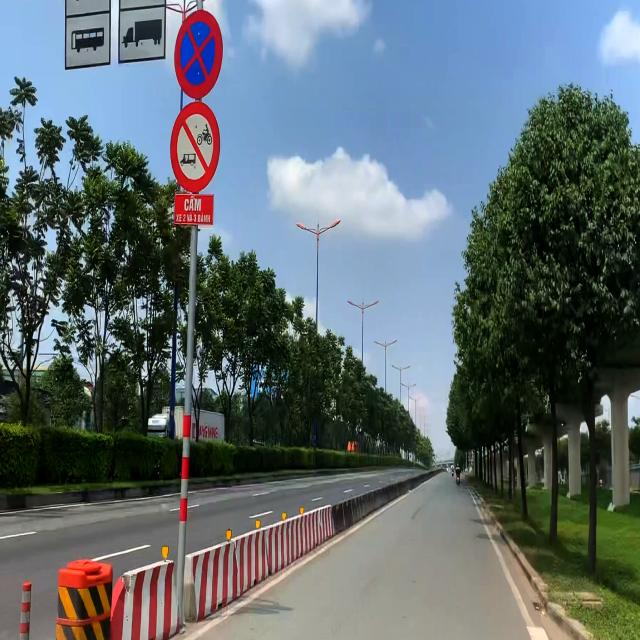Cam con lai: (170, 99, 221, 193)
Cam dung va do: (173, 5, 224, 101)
